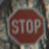stopsign: (7, 7, 45, 46)
